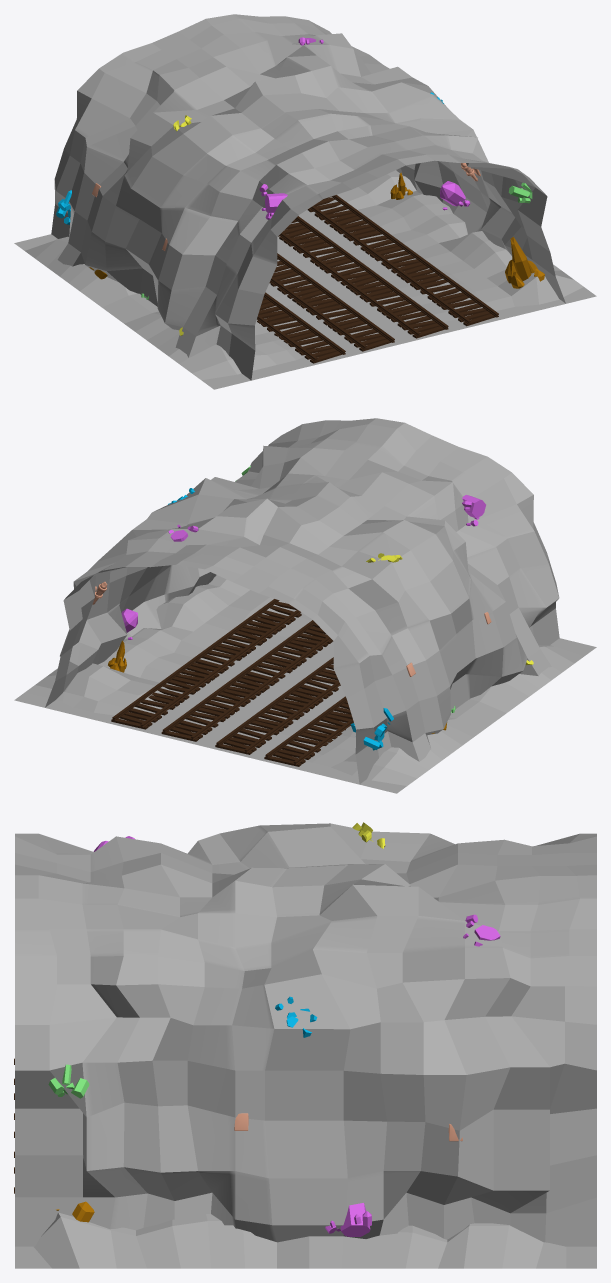
File: tunnel_low_final.fbx
3 views of the same model, one above another, from view 1: azimuth 30°, elevation 25°; view 2: azimuth 150°, elevation 25°; view 3: azimuth 270°, elevation 25° (orthographic). The views are drawn at different scales.
Visible parts, largest first — view 1: floor_low, rails_low, gems_low; view 2: floor_low, rails_low, gems_low; view 3: floor_low, gems_low.
Part boxes in pixels (bbox=[...]): floor_low: bbox=[14, 14, 596, 389]; rails_low: bbox=[257, 195, 498, 363]; gems_low: bbox=[56, 37, 544, 335]; floor_low: bbox=[14, 418, 596, 793]; rails_low: bbox=[111, 599, 353, 766]; gems_low: bbox=[108, 466, 533, 750]; floor_low: bbox=[15, 823, 596, 1268]; gems_low: bbox=[48, 822, 500, 1236].
Size of the model in its own units: 22.53 by 10.24 by 20.44.
